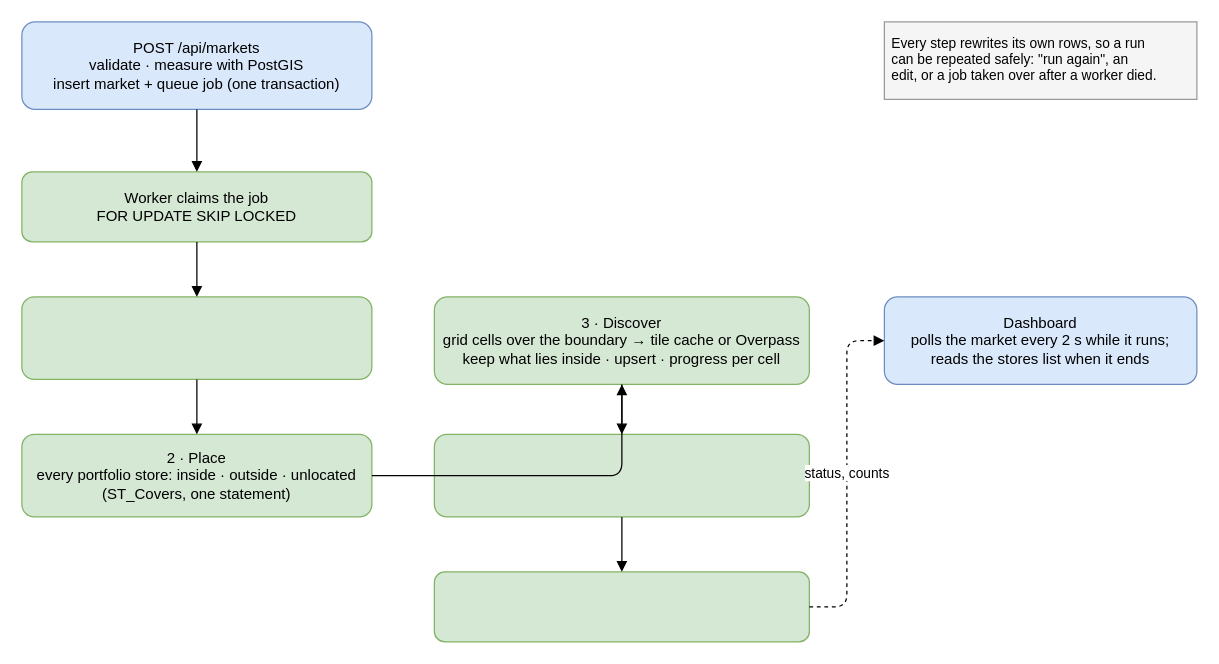
The diagram is 1219 pixels wide and 664 high, and some of its shapes have lost their labels. The centre of each missing label's shape, as x and y in pixels:
"1 · Locate portfolio rows without coordinates, inside the city box (Nominatim)" belongs at (196,337).
"4 · Match nearest discovered store, same category, within 150 m (ST_DWithin)" belongs at (621,475).
"Status ready · partial (some cells failed) · failed" belongs at (621,606).
